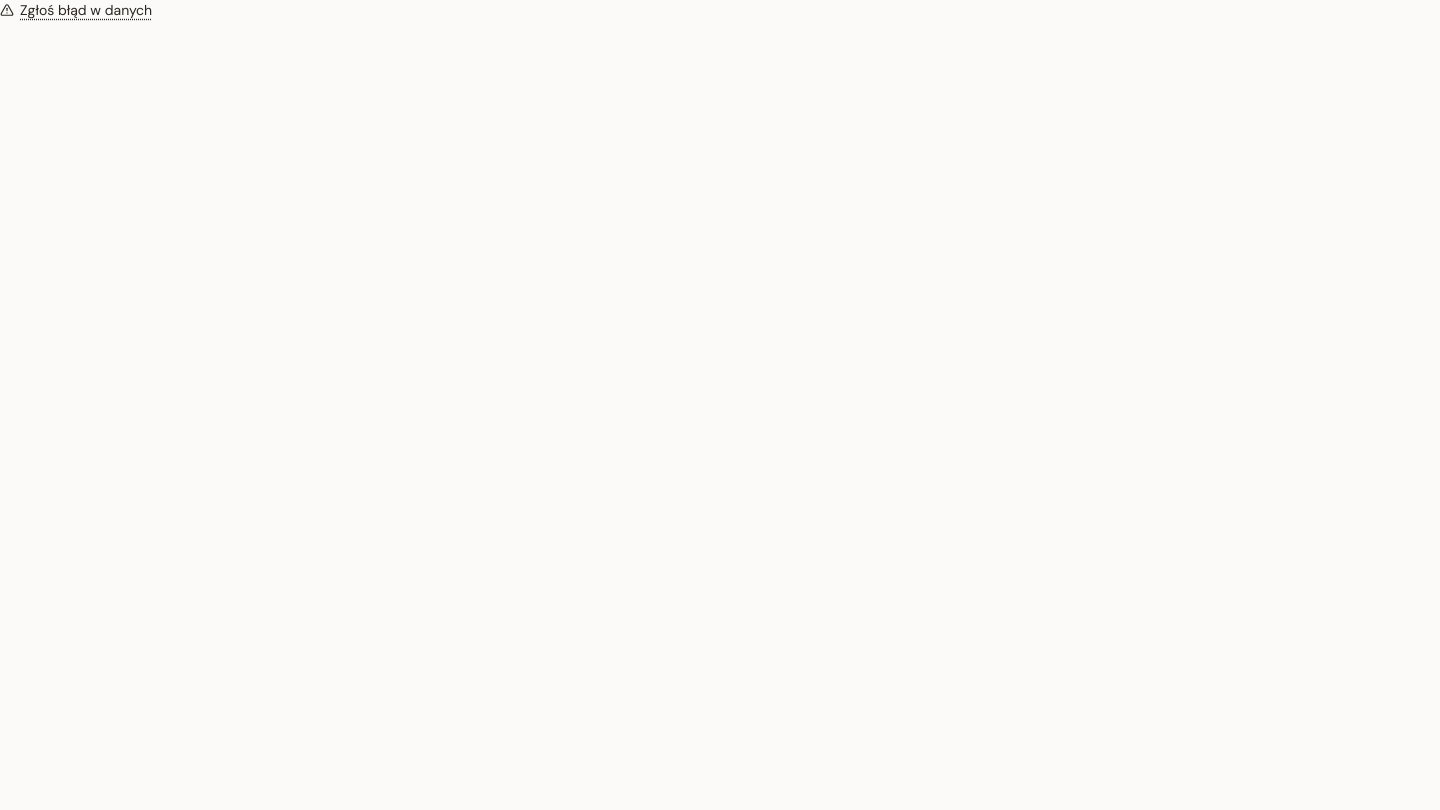
AN-12-079 — „Zgłoś błąd w danych”: komunikat przy polu + fokus › zły e-mail przy poprawnym opisie -> komunikat przy e-mailu, fokus na e-mailu
The width and height of the screenshot is (1440, 810).
Click the button "Zgłoś błąd w danych": click(76, 10) x1=0 y1=0 x2=152 y2=20
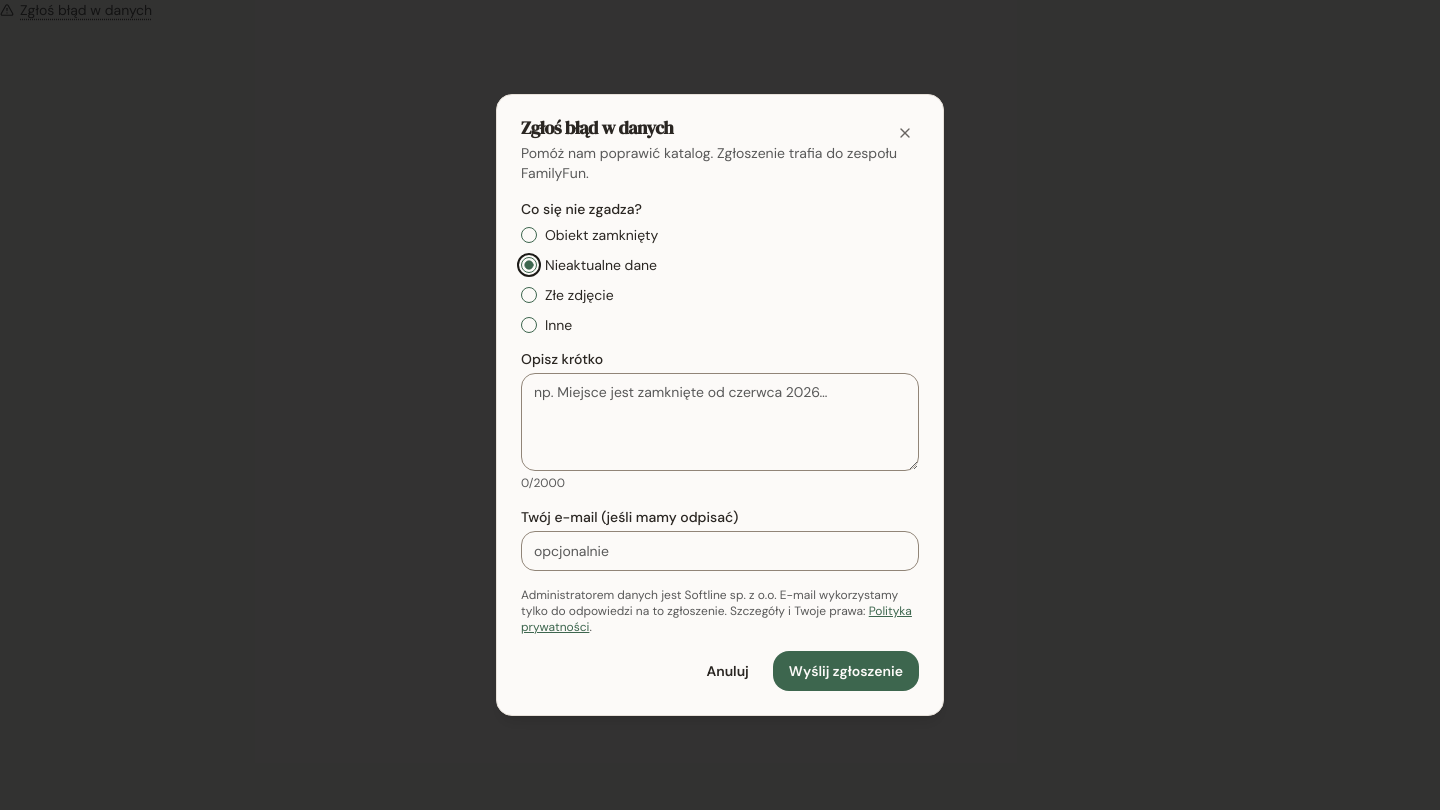
In the text box labelled "Opisz krótko": (720, 422) x1=521 y1=373 x2=919 y2=471, type "Godziny otwarcia są nieaktualne."
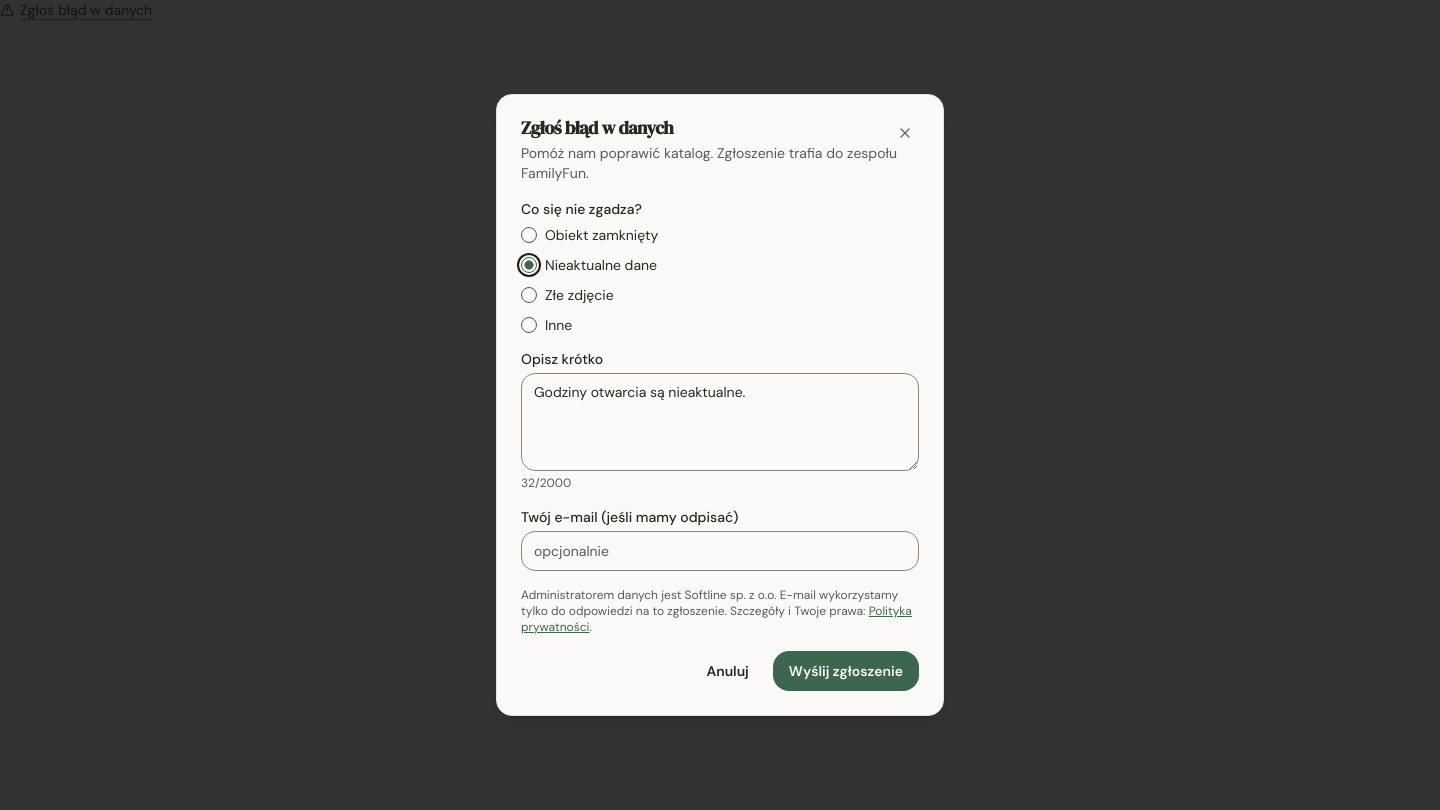
In the field labelled "Twój e-mail (jeśli mamy odpisać)": (720, 551) x1=521 y1=531 x2=919 y2=571, type "abc"
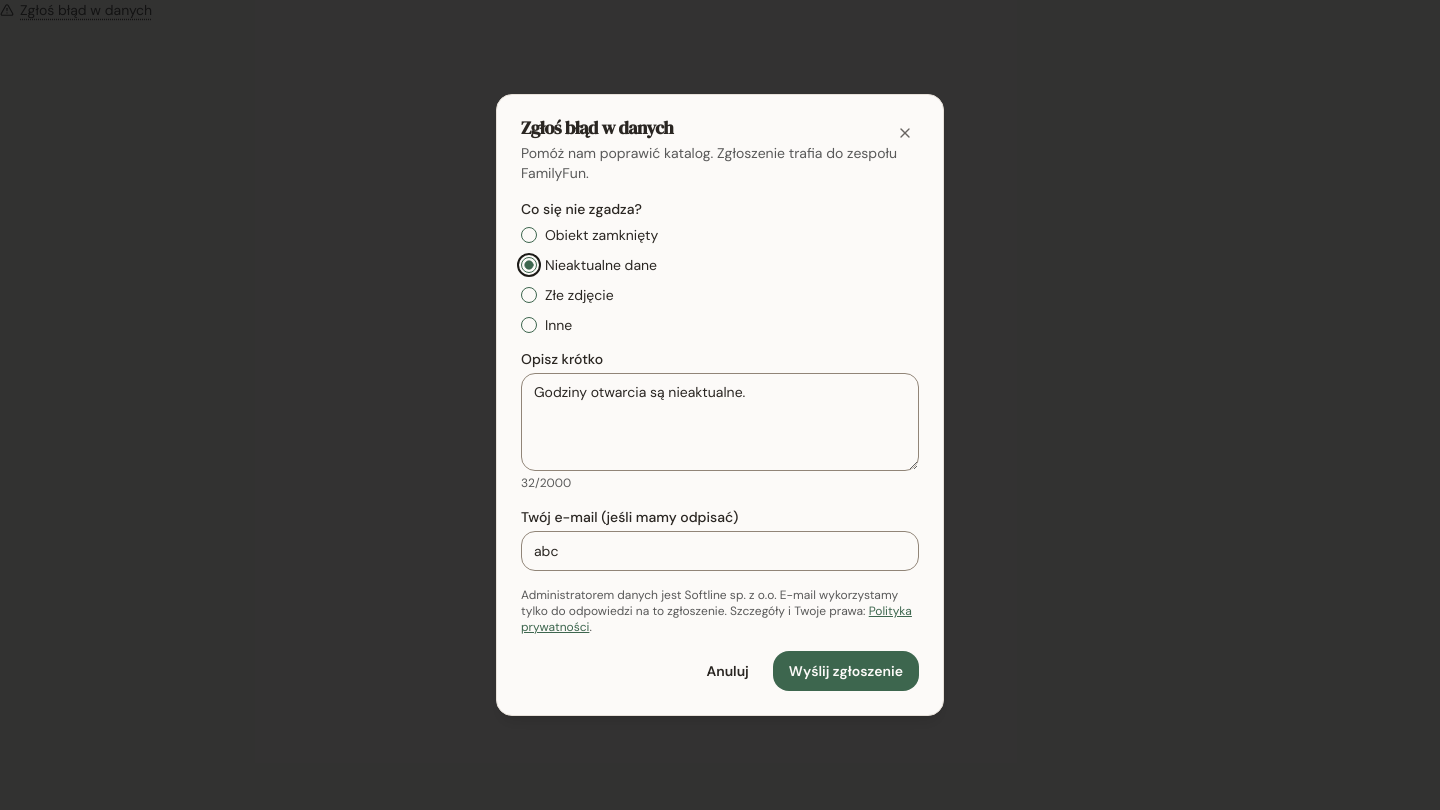
Click the button "Wyślij zgłoszenie": click(846, 671) x1=773 y1=651 x2=919 y2=691
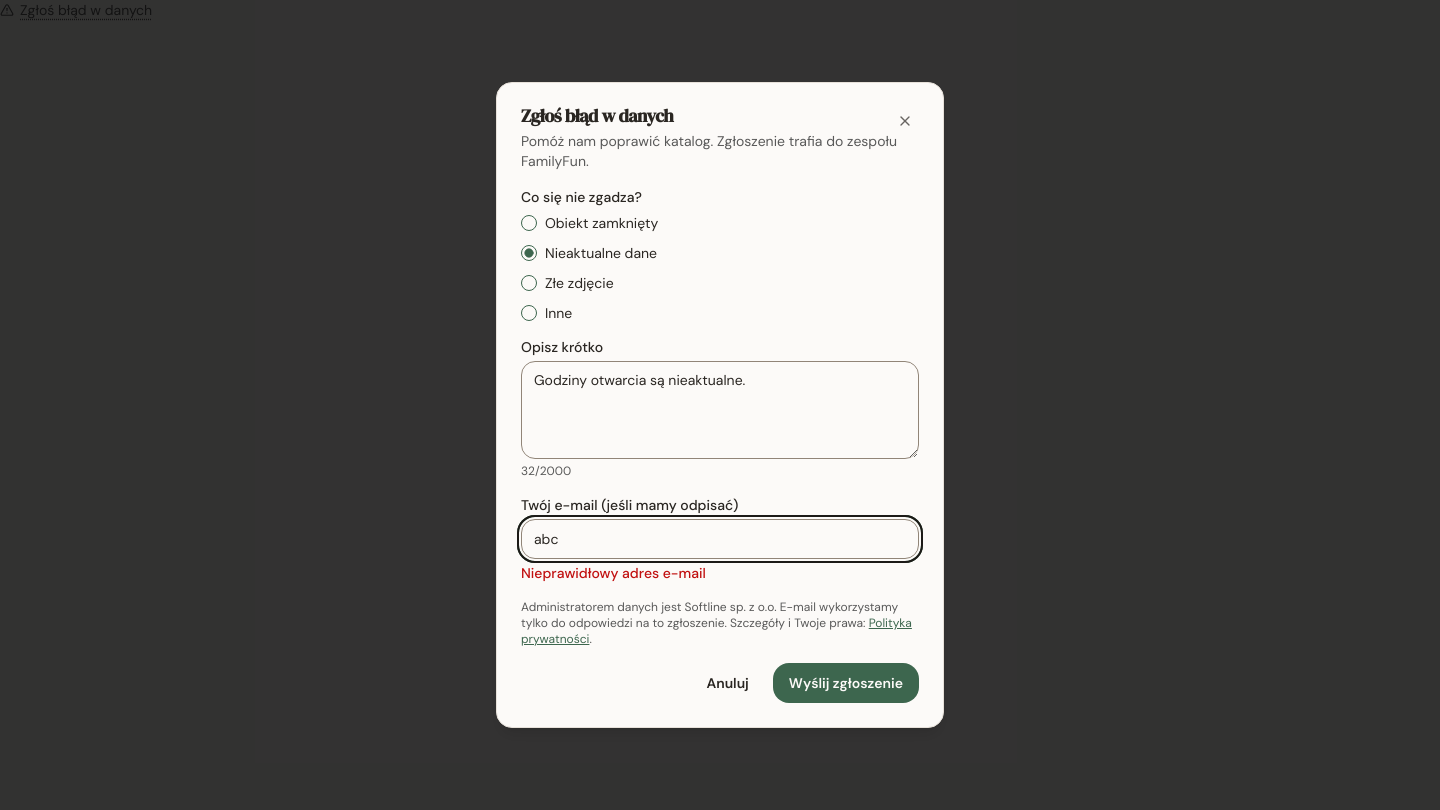
Expected: the text "Nieprawidłowy adres e-mail" is shown, x1=521 y1=564 x2=706 y2=582
